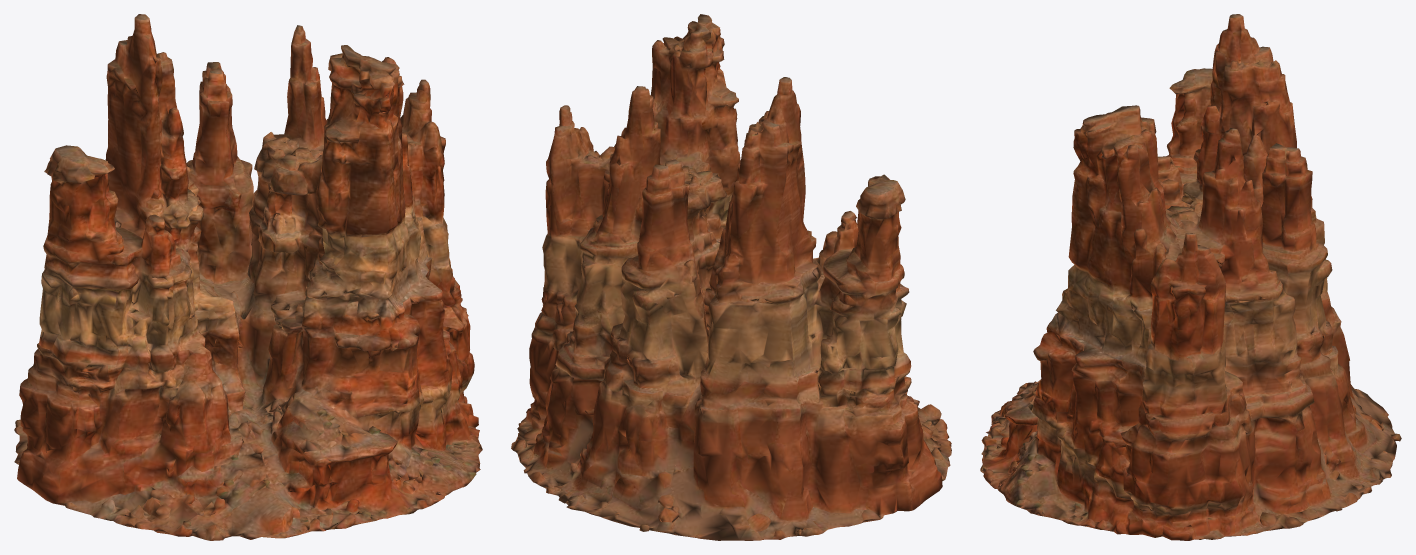
The model's file is charyn.glb.
3 renders of one model, left to right at view 1: azimuth 30°, elevation 25°; view 2: azimuth 150°, elevation 25°; view 3: azimuth 270°, elevation 25°, orthographic. The views are drawn at different scales.
Bounding box in the file's own units: 1.9 × 1.85 × 1.79.
1 material, 1 textured.
